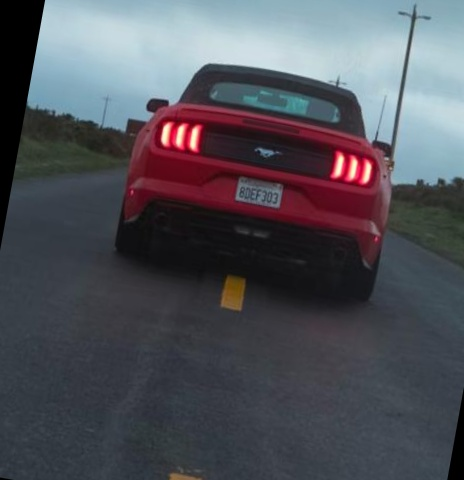car: (77, 18, 434, 330)
